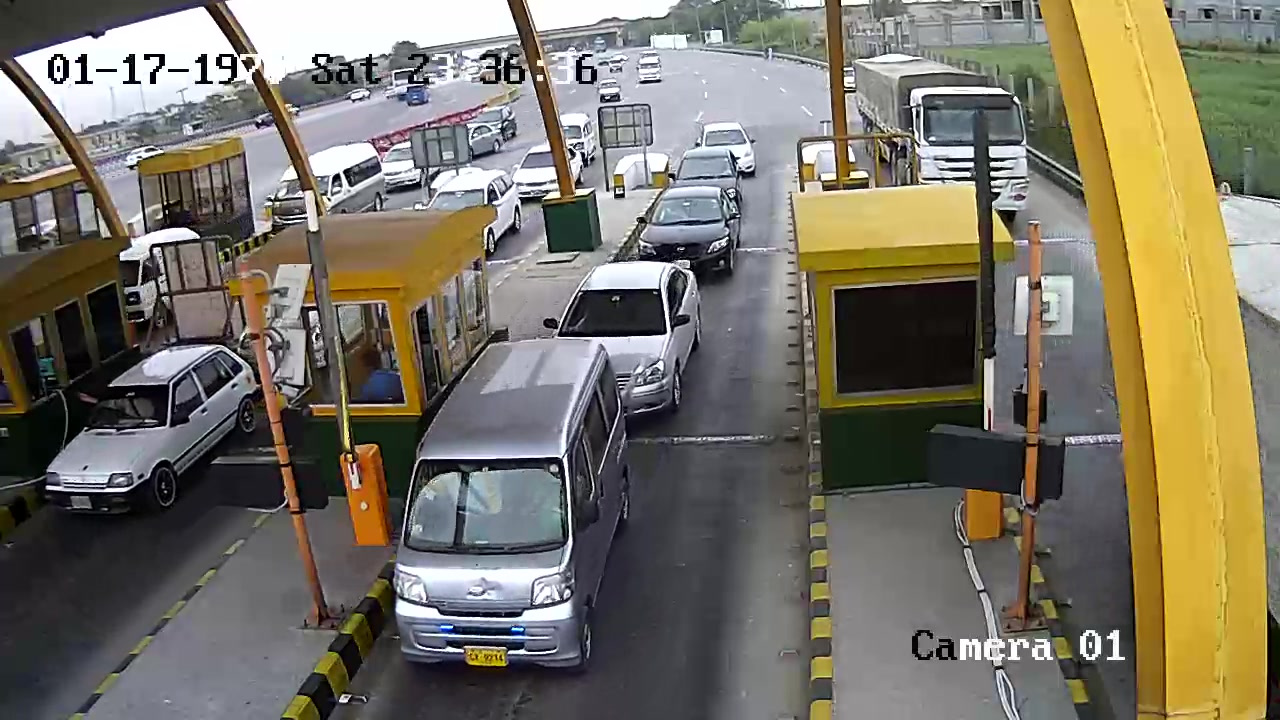F1: (386, 325, 628, 688)
